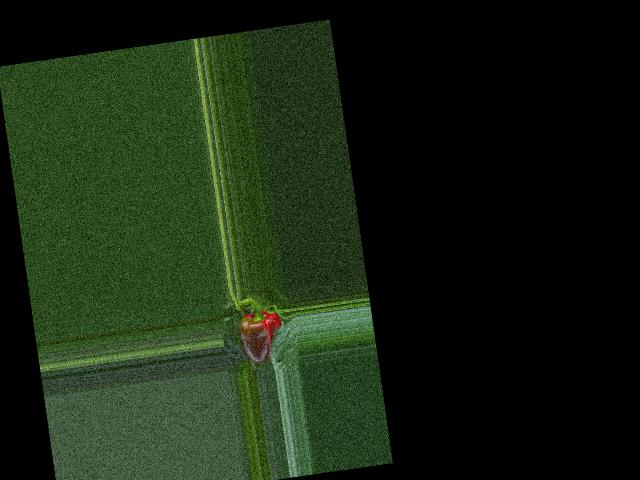bell_pepper: (229, 301, 289, 369)
